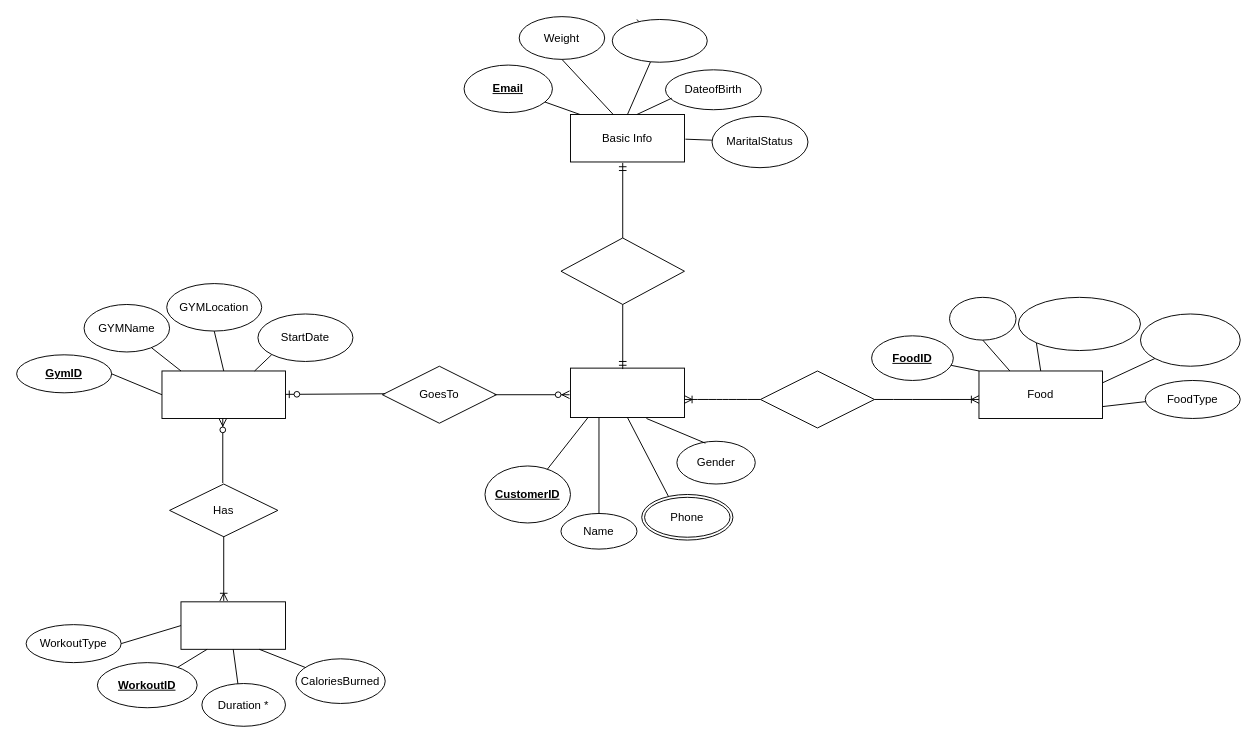
Image size: 1257x744. Some labels were removed from this diagram. Here are the shapes that lost their labels. From the top down, the box of each, then its label:
(611, 19, 707, 62): Height
(560, 237, 684, 304): RelatesTo
(949, 296, 1016, 340): Amount
(1017, 296, 1140, 351): CaloriesConsumed *
(1140, 313, 1240, 366): MacroNutrients
(161, 370, 285, 418): GYM
(570, 367, 684, 418): Customer
(760, 370, 874, 428): Consumes
(180, 601, 285, 649): Exercise
